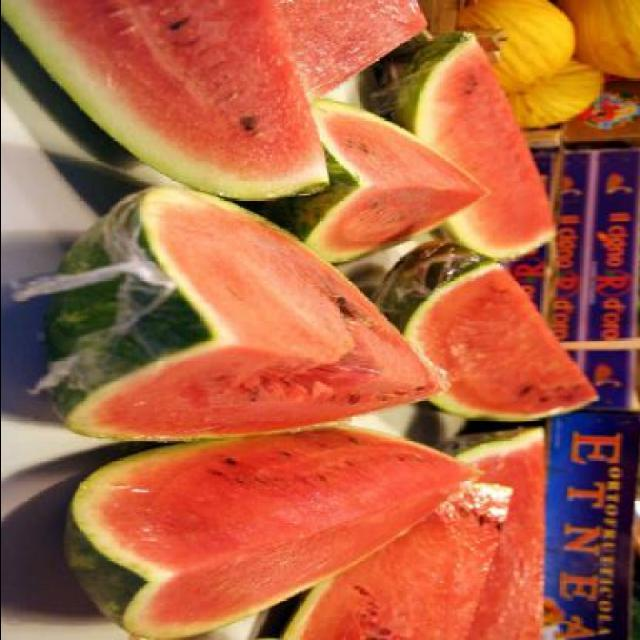Watermelon: (1, 0, 599, 640), (2, 4, 334, 208)
